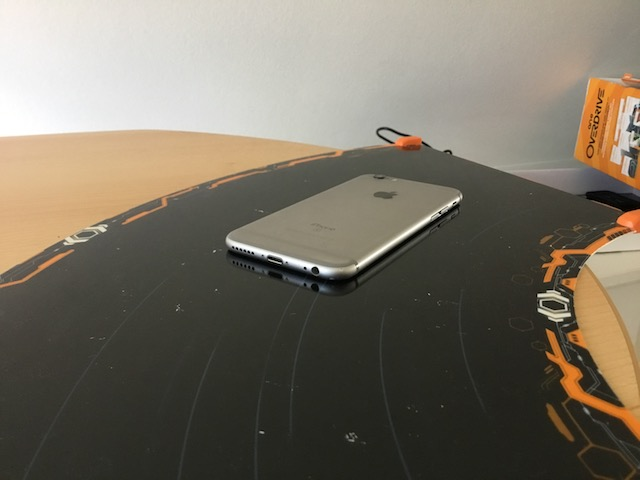phone: (221, 170, 467, 287)
